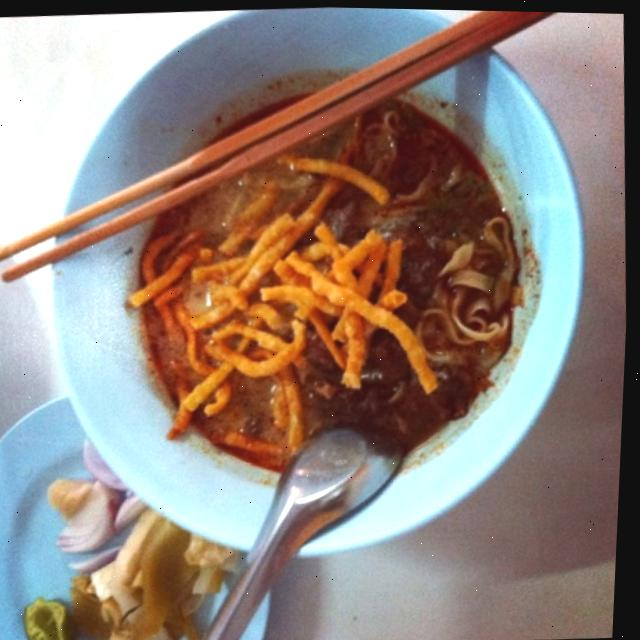面条主食: (27, 1, 615, 575)
